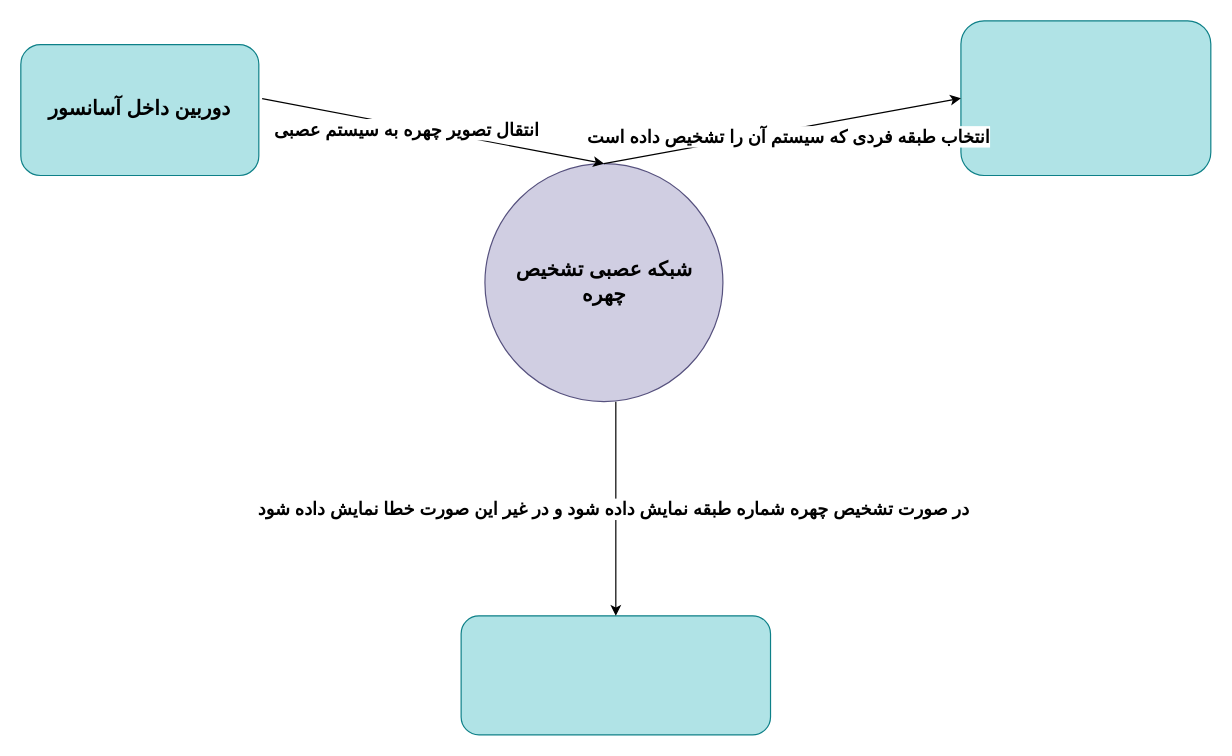
Image size: 1232x756. Some labels were removed from this diagram. Here are the shapes that lost their labels. From the top down, the box of each, then its label:
(960, 20, 1211, 176): سیستم داخلی انتخاب طبقه آسانسور
(460, 615, 771, 735): نمایشگر قرار داده شده در آسانسور
